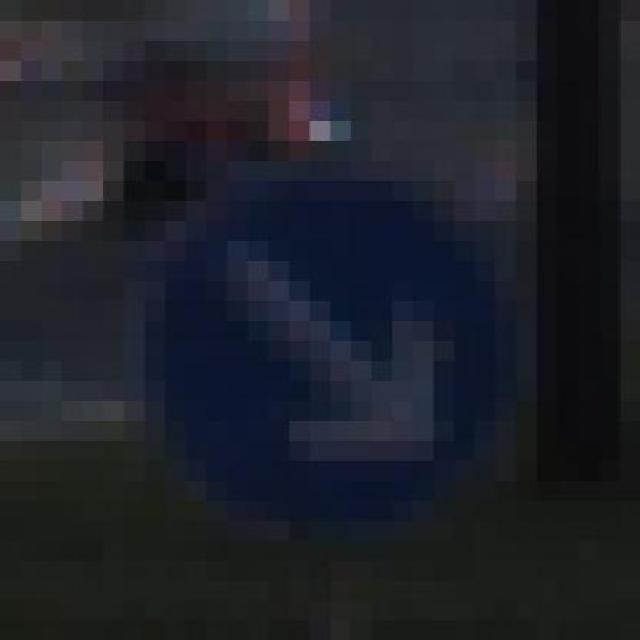Keep-Right: (123, 120, 537, 540)
